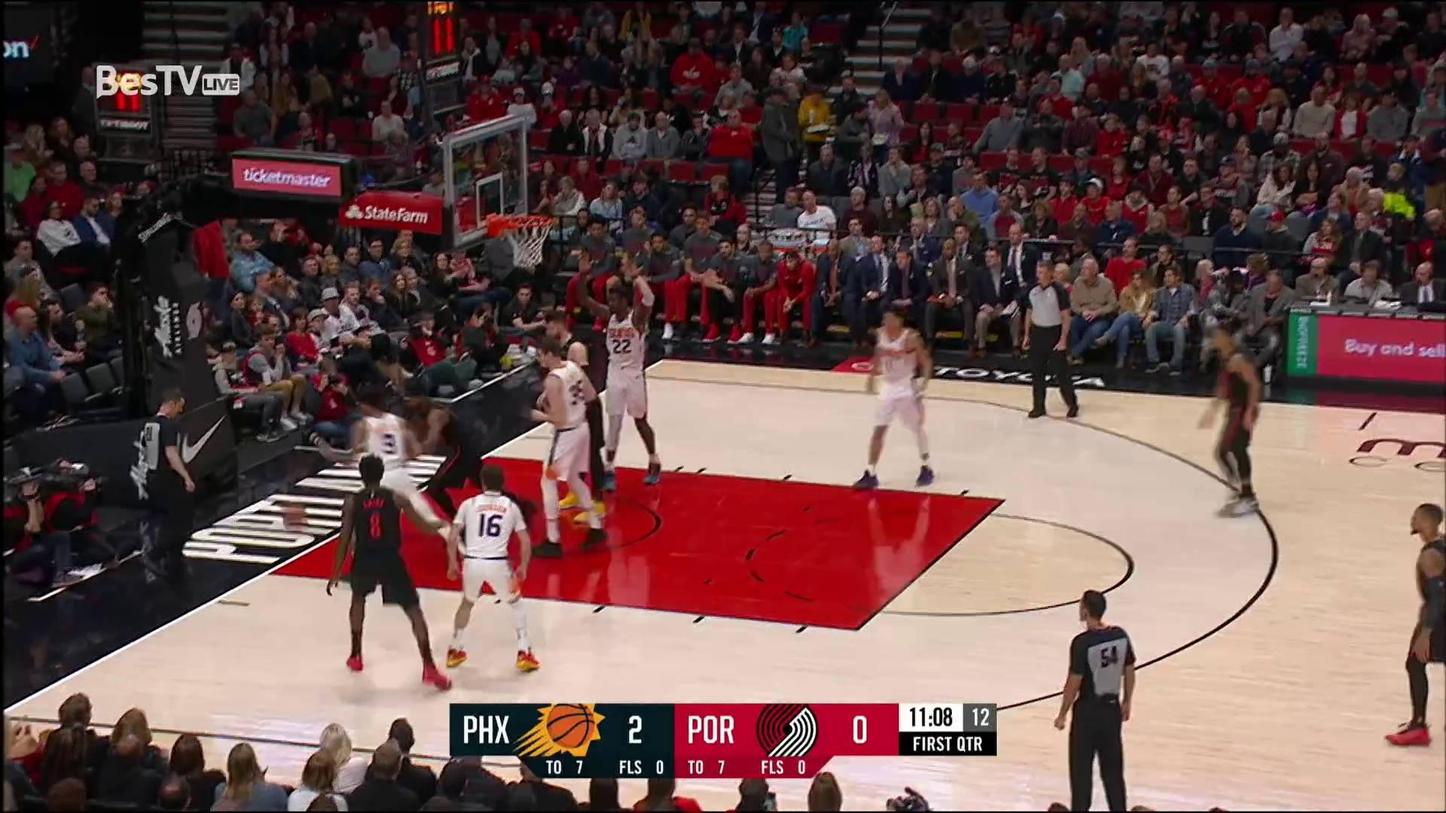basketball: (280, 503, 307, 531)
